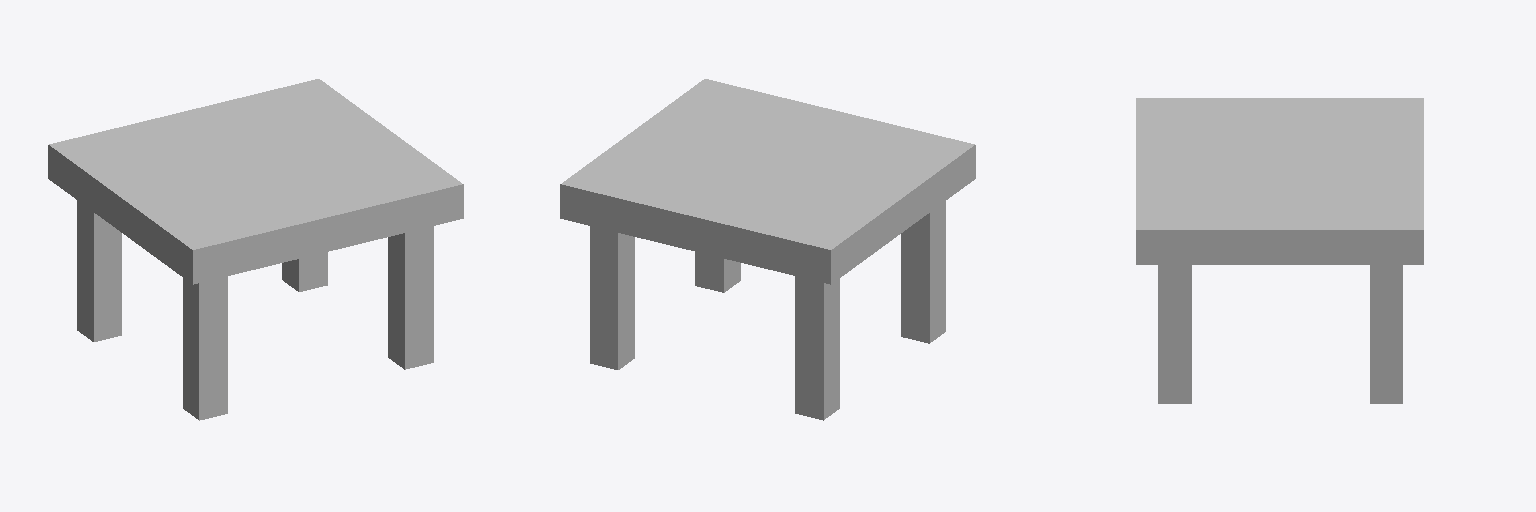
Rendered from chair.obj.
The picture shows the model from 3 angles: view 1: azimuth 30°, elevation 25°; view 2: azimuth 150°, elevation 25°; view 3: azimuth 270°, elevation 25°; orthographic projection.
Parts seen in each view (by area): view 1: Стол.003_Cube.019; view 2: Стол.003_Cube.019; view 3: Стол.003_Cube.019.
Boxes of the visible parts, x1=… form: Стол.003_Cube.019: x1=48, y1=79, x2=463, y2=420; Стол.003_Cube.019: x1=560, y1=79, x2=975, y2=420; Стол.003_Cube.019: x1=1136, y1=98, x2=1423, y2=403.
Bounding box in the file's own units: 0.924 × 0.5975 × 0.8537.